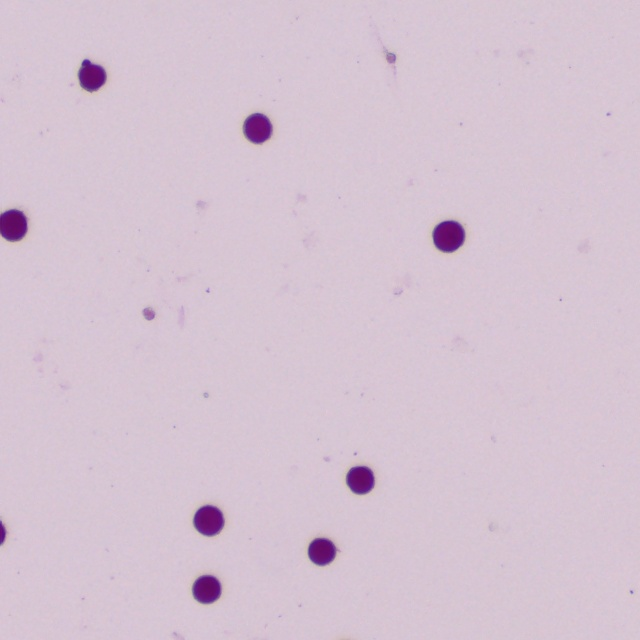viable: (434, 221, 464, 252), (195, 506, 223, 535), (79, 60, 105, 91), (244, 114, 271, 143), (1, 210, 27, 240), (347, 467, 374, 494), (194, 576, 221, 603), (309, 539, 335, 565)
